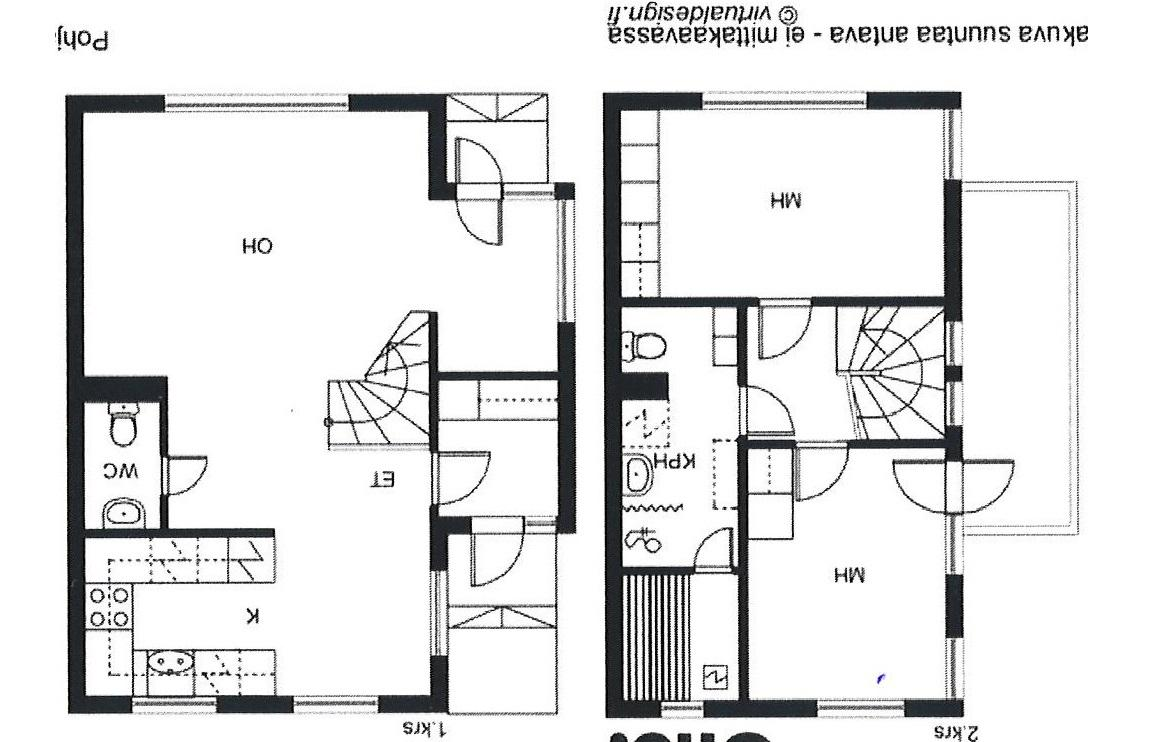bathroom: (621, 308, 738, 567), (85, 401, 163, 530)
door: (941, 458, 1019, 523), (889, 455, 965, 519), (467, 512, 528, 590), (753, 293, 815, 366), (427, 451, 495, 513), (791, 440, 853, 504), (735, 384, 799, 442), (451, 134, 506, 201), (452, 184, 507, 248), (156, 452, 207, 504), (691, 524, 736, 577)
perimeter: (61, 91, 576, 716), (601, 87, 971, 723)
stairs: (838, 307, 944, 448), (324, 310, 433, 445)
window: (154, 89, 358, 118), (691, 87, 875, 118), (552, 194, 584, 333), (282, 689, 390, 719), (123, 690, 227, 719), (808, 695, 915, 721), (427, 566, 454, 667), (939, 513, 976, 583), (940, 632, 970, 709), (940, 99, 964, 191), (649, 696, 714, 723), (940, 316, 966, 374), (941, 374, 965, 430), (525, 508, 565, 541), (498, 178, 559, 198)
